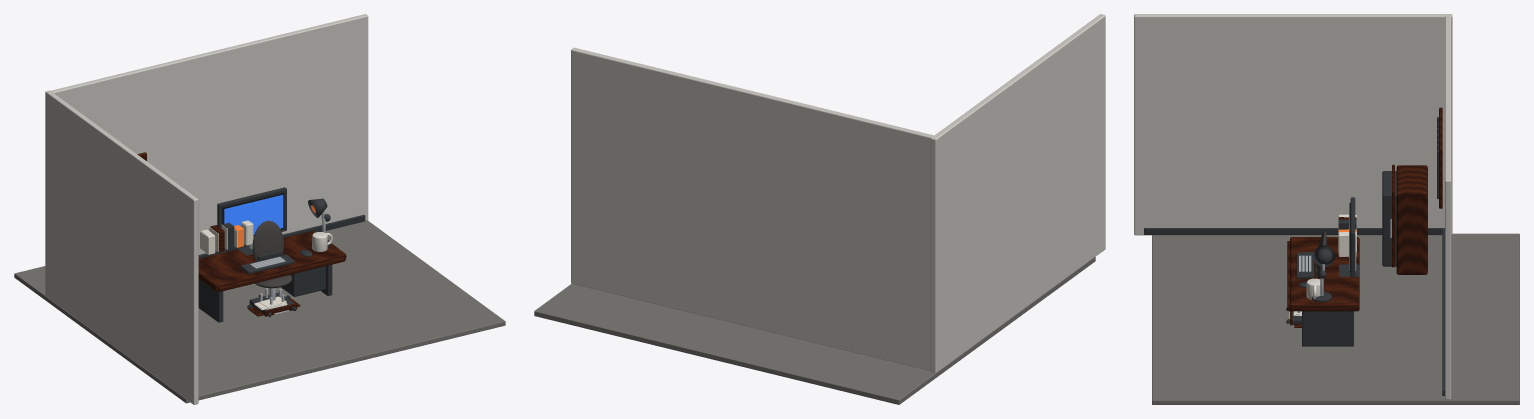
Rendered from study-hub-home-v29.glb.
3 renders of one model, left to right at view 1: azimuth 30°, elevation 25°; view 2: azimuth 150°, elevation 25°; view 3: azimuth 270°, elevation 25°, orthographic. The views are drawn at different scales.
Visible parts, largest first — view 1: BackWall, LeftWall, Floor, DeskTop_Walnut, MonitorScreenSurface, ChairBack_Curved, DrawerCarcass, DeskLeg_L, DeskTop_FrontLip, MonitorFrame, BackSkirting; view 2: BackWall, LeftWall, Floor; view 3: LeftWall, Floor, CabinetBody, DeskTop_Walnut, BackWall, DeskLeg_R, LeftSkirting, CabinetInner, BackSkirting, MonitorFrame, WallPanelWalnut, KeyboardBody (+1 smaller).
Boxes of the visible parts, x1,y1,x2,y2 form: BackWall: (48, 14, 368, 254); LeftWall: (45, 90, 198, 404); Floor: (14, 221, 505, 403); DeskTop_Walnut: (198, 230, 346, 291); MonitorScreenSurface: (224, 195, 283, 234); ChairBack_Curved: (252, 220, 283, 261); DrawerCarcass: (281, 266, 325, 296); DeskLeg_L: (198, 279, 223, 322); DeskTop_FrontLip: (218, 257, 345, 291); MonitorFrame: (217, 187, 286, 231); BackSkirting: (198, 215, 365, 258); BackWall: (571, 47, 937, 371); LeftWall: (930, 14, 1105, 373); Floor: (534, 257, 1095, 404); LeftWall: (1134, 14, 1452, 235); Floor: (1152, 233, 1519, 404); CabinetBody: (1396, 165, 1427, 274); DeskTop_Walnut: (1290, 237, 1359, 311); BackWall: (1445, 14, 1451, 399); DeskLeg_R: (1302, 311, 1353, 346); LeftSkirting: (1144, 228, 1444, 234); CabinetInner: (1382, 171, 1396, 266); BackSkirting: (1442, 228, 1444, 395); MonitorFrame: (1350, 197, 1355, 277); WallPanelWalnut: (1439, 107, 1442, 208); KeyboardBody: (1296, 252, 1314, 279).
Bounding box in the file's own units: 8.82 × 6.19 × 8.6.
11 materials, 1 textured.
